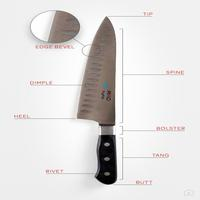knife: (75, 14, 126, 187)
